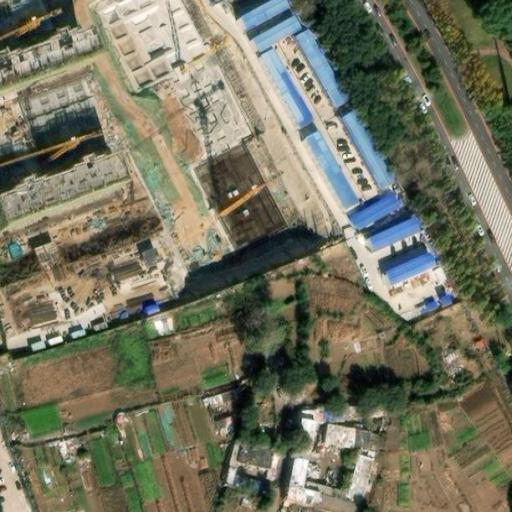building: (191, 138, 285, 249), (96, 0, 213, 89), (164, 50, 256, 155), (0, 167, 119, 232), (284, 451, 375, 512), (261, 48, 315, 130), (296, 28, 351, 107), (0, 42, 88, 91), (342, 110, 395, 190), (305, 131, 357, 209), (228, 436, 284, 477), (369, 214, 424, 251), (350, 192, 402, 230), (384, 249, 437, 283), (253, 15, 302, 51), (239, 0, 291, 32), (326, 424, 380, 451), (323, 400, 385, 421), (294, 410, 322, 452), (224, 464, 265, 492), (211, 410, 236, 435), (414, 293, 441, 316), (139, 243, 163, 268), (137, 295, 161, 315)
